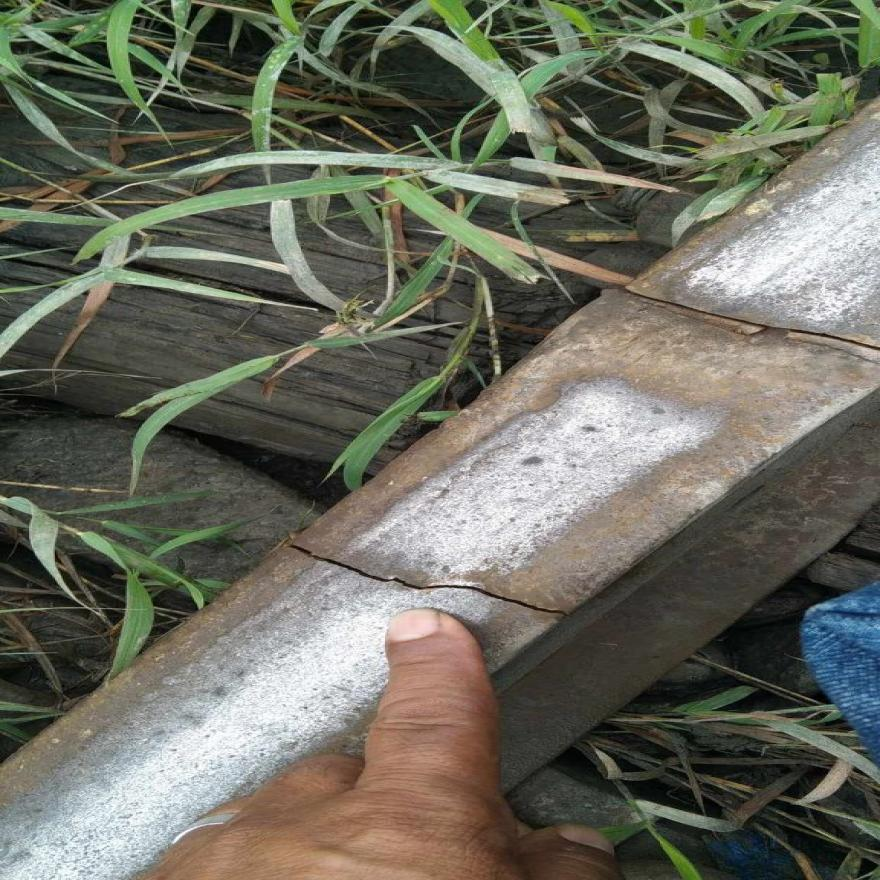railway-gap: (545, 244, 877, 402), (253, 511, 593, 657)
